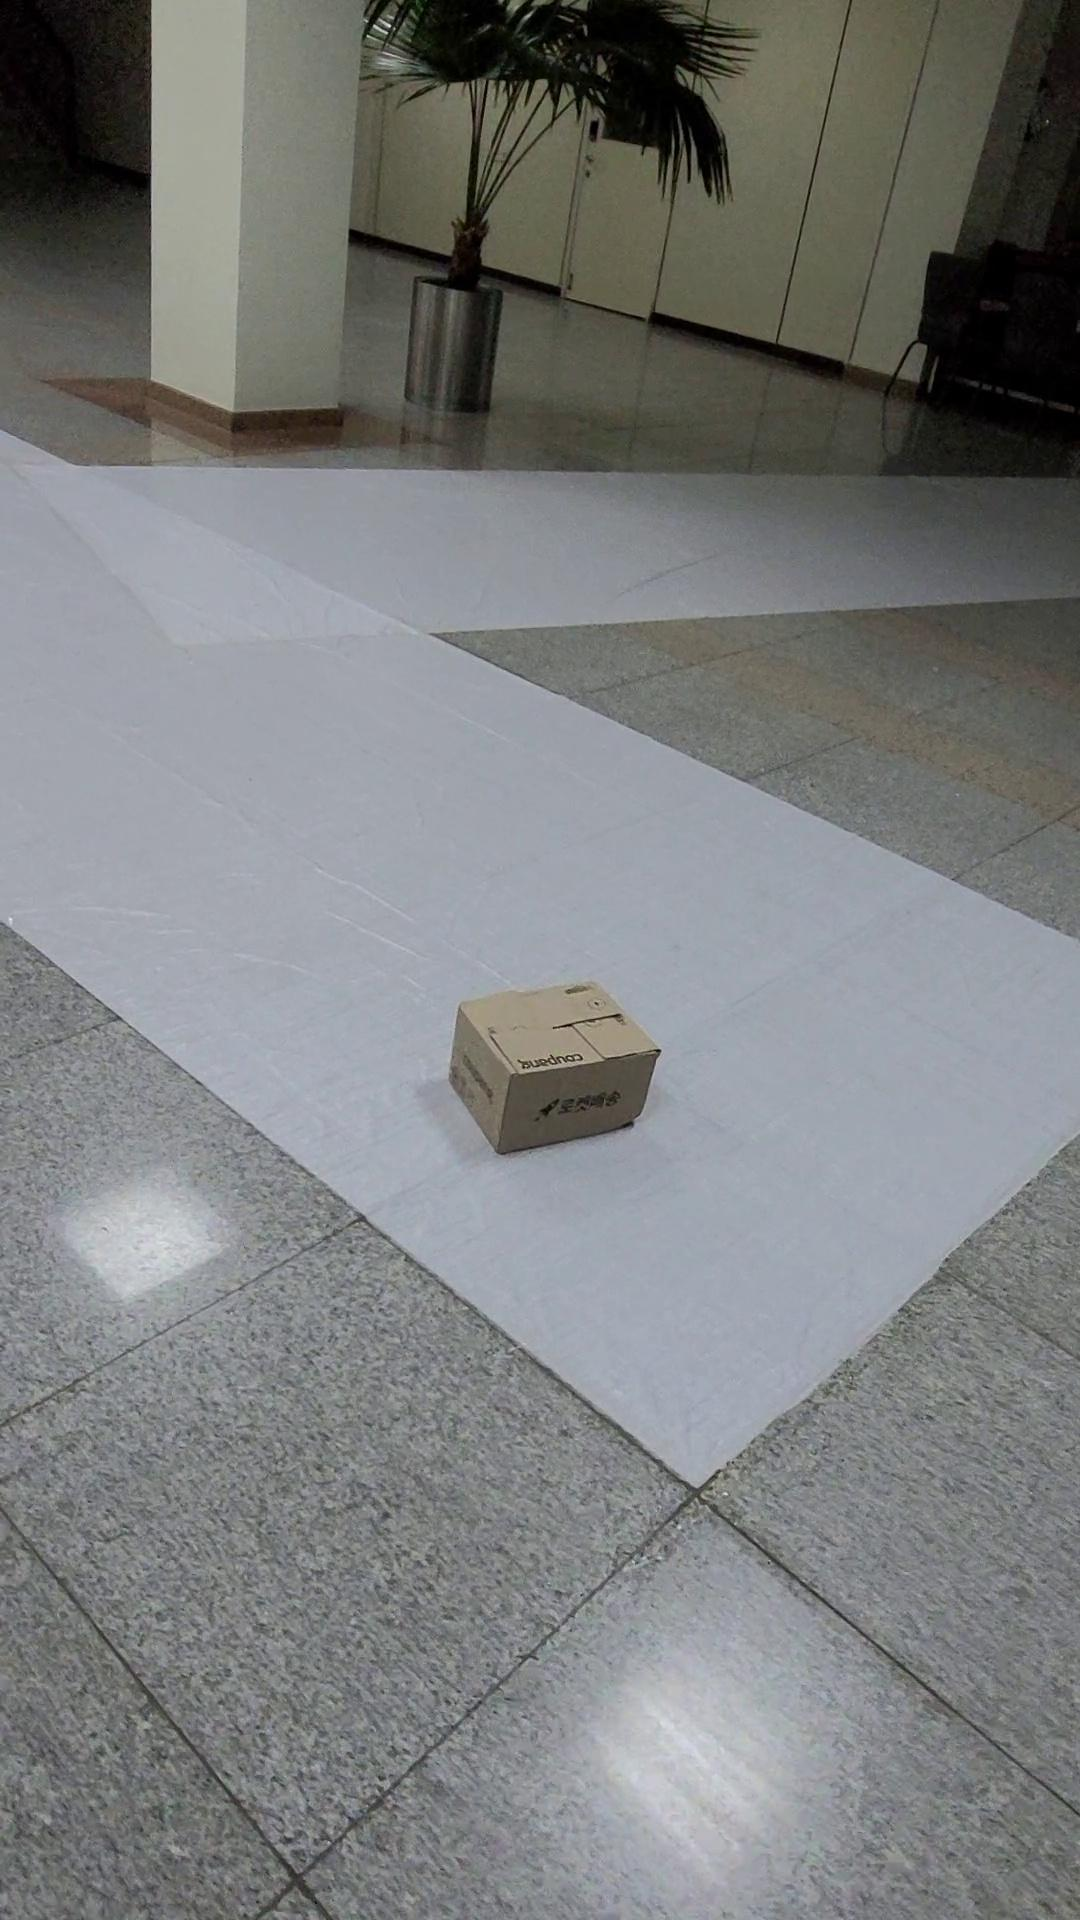Box: (415, 923, 675, 1164)
